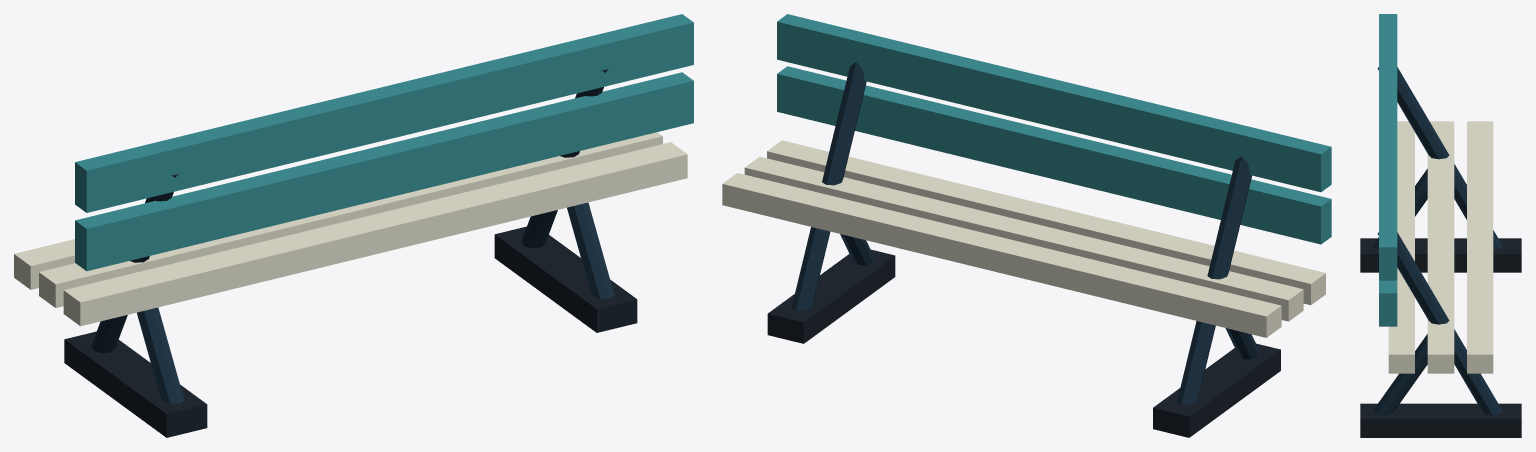
File: player-bench.glb
The picture shows the model from 3 angles, left to right: view 1: azimuth 30°, elevation 25°; view 2: azimuth 150°, elevation 25°; view 3: azimuth 270°, elevation 25°; orthographic projection. The views are drawn at different scales.
Parts seen in each view (by area): view 1: player-bench; view 2: player-bench; view 3: player-bench.
Boxes of the visible parts, x1,y1,x2,y2 form: player-bench: [14, 14, 693, 437]; player-bench: [722, 14, 1331, 437]; player-bench: [1360, 14, 1521, 437].
Bounding box in the file's own units: 2.4 × 1.04 × 0.7.
